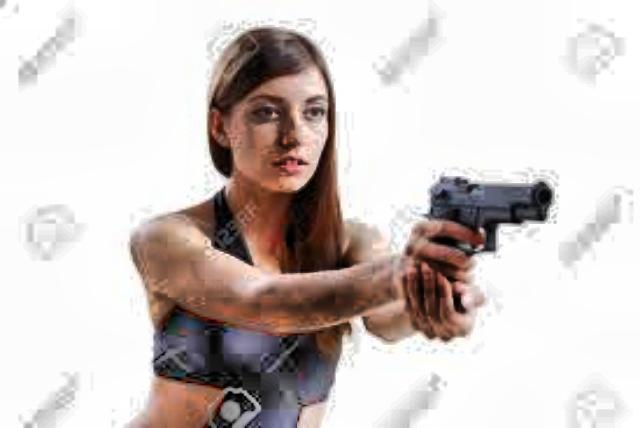pistol: (408, 166, 554, 298)
